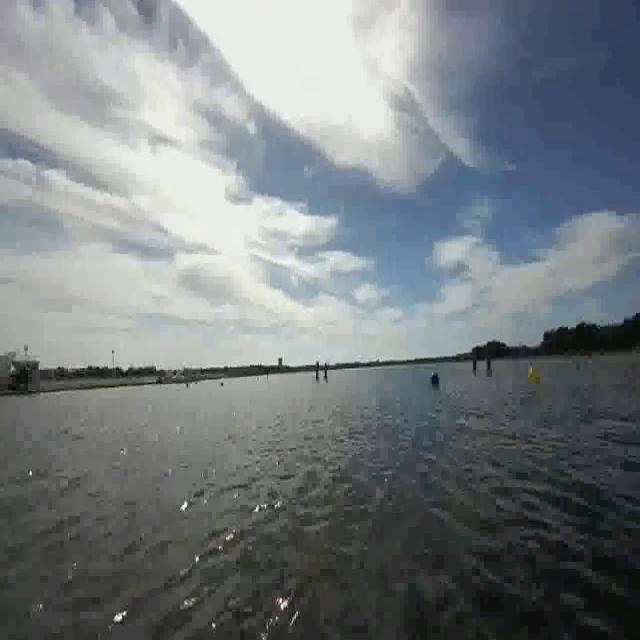blue-buoy: (429, 371, 440, 388)
yellow-buoy: (528, 366, 542, 386)
